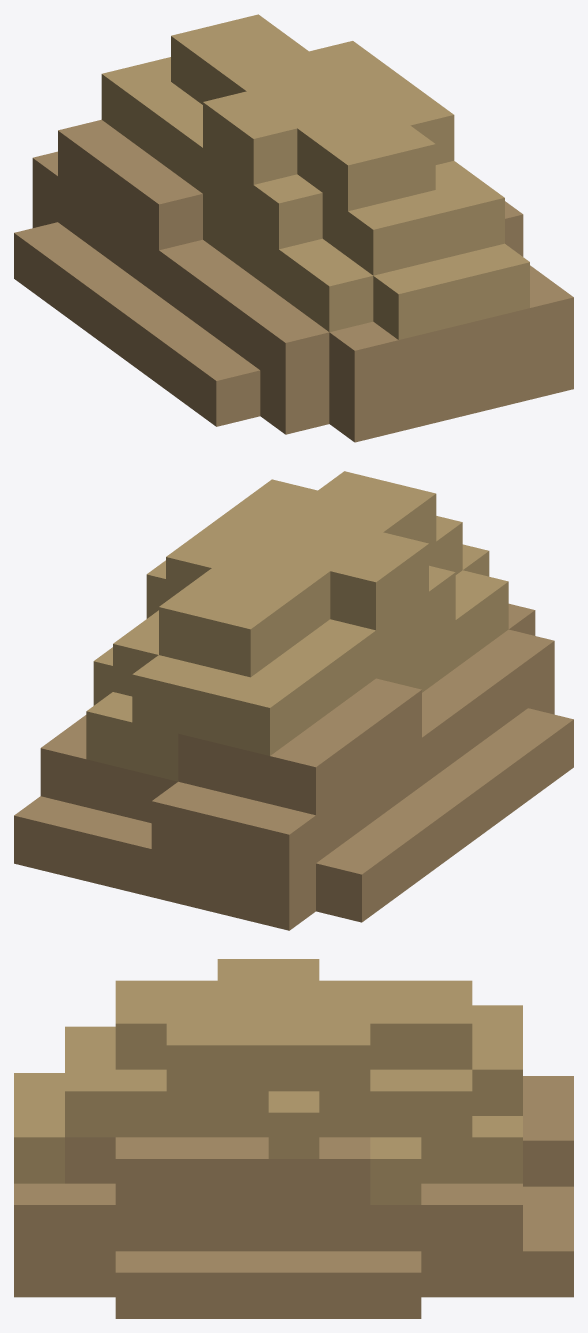
File: rock_small2.obj
The picture shows the model from 3 angles, top to bottom: view 1: azimuth 30°, elevation 25°; view 2: azimuth 150°, elevation 25°; view 3: azimuth 270°, elevation 25°; orthographic projection. The views are drawn at different scales.
Size of the model in its own units: 0.8 by 0.5 by 1.1.
1 material, 1 textured.
